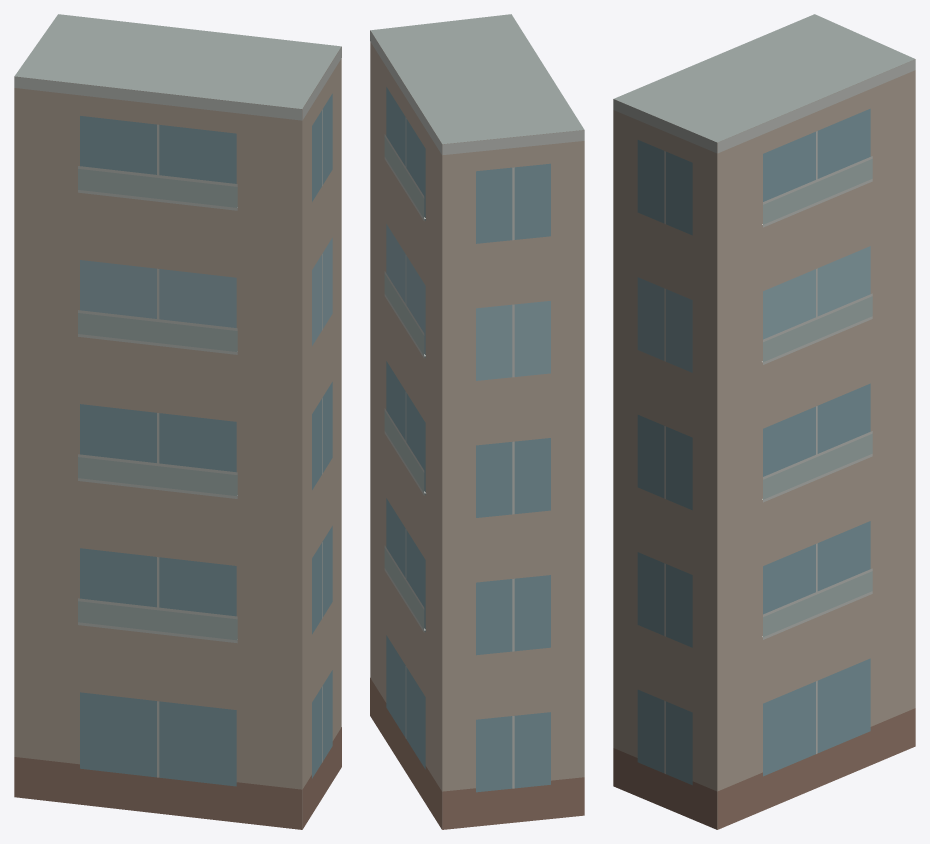
The model's file is survey-upis-32784463.glb.
The picture shows the model from 3 angles, left to right: view 1: azimuth 30°, elevation 25°; view 2: azimuth 150°, elevation 25°; view 3: azimuth 270°, elevation 25°; orthographic projection. The views are drawn at different scales.
Parts seen in each view (by area): view 1: survey-upis-32784463.tmp; view 2: survey-upis-32784463.tmp; view 3: survey-upis-32784463.tmp.
Boxes of the visible parts, x1,y1,x2,y2 form: survey-upis-32784463.tmp: [14, 14, 341, 829]; survey-upis-32784463.tmp: [370, 14, 584, 829]; survey-upis-32784463.tmp: [613, 14, 915, 829].
Bounding box in the file's own units: 6.13 × 15.25 × 6.08.
